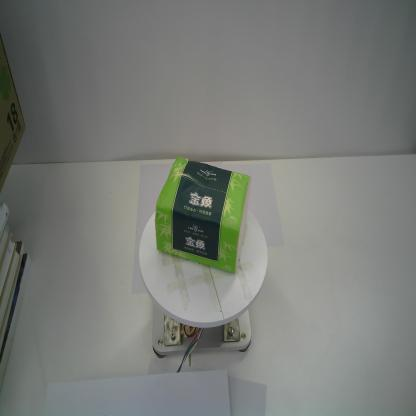Tissue: (154, 154, 252, 276)
